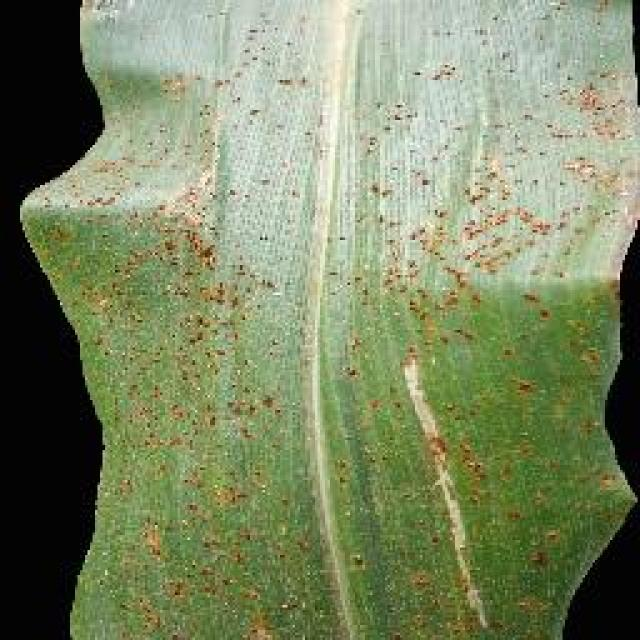Corn Common Rust: (63, 51, 630, 532)
